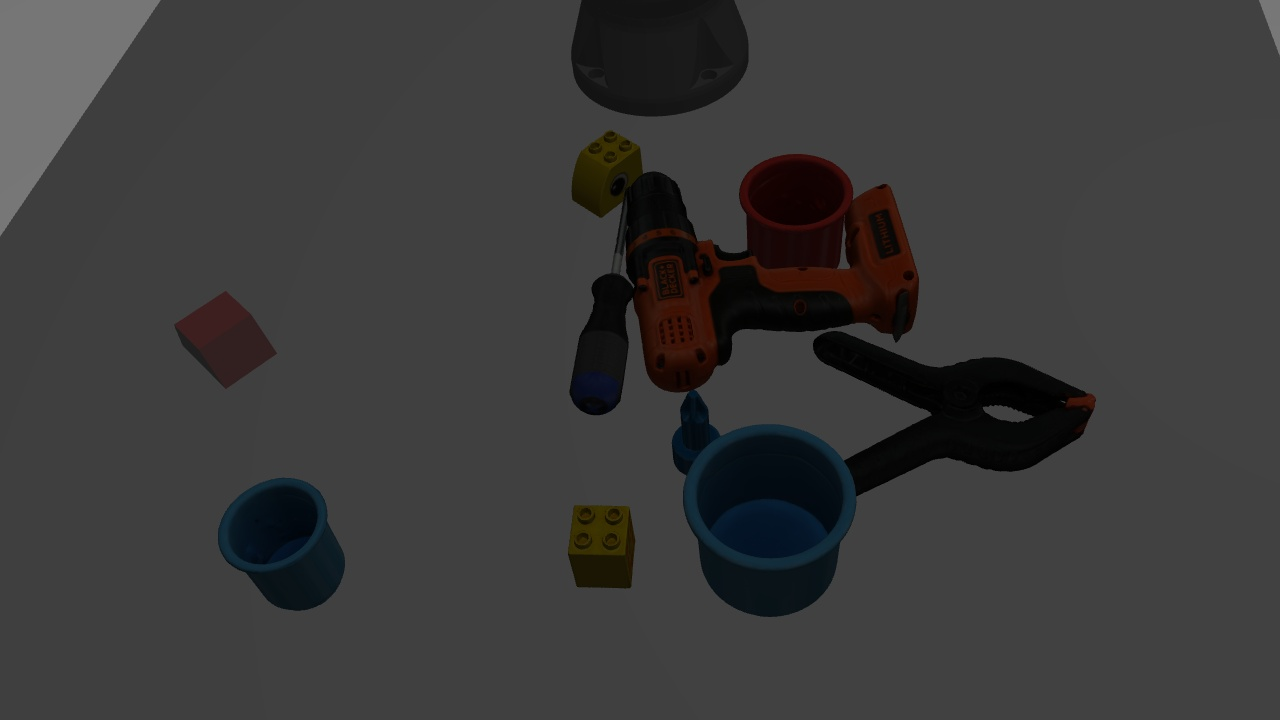power_drill: (618, 156, 926, 365)
